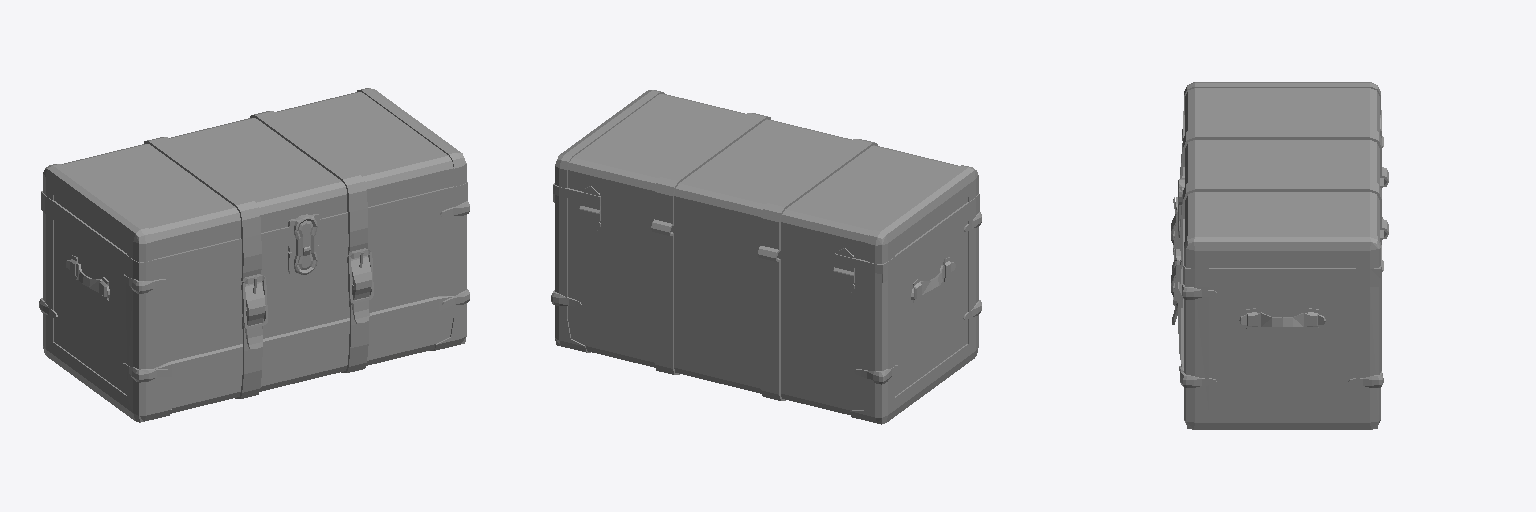
Rendered from chest.obj.
The picture shows the model from 3 angles: view 1: azimuth 30°, elevation 25°; view 2: azimuth 150°, elevation 25°; view 3: azimuth 270°, elevation 25°; orthographic projection.
Visible parts, largest first — view 1: Chest_Untitled; view 2: Chest_Untitled; view 3: Chest_Untitled.
Part boxes in pixels (x1,y1,x2,y2): Chest_Untitled: (39, 88, 469, 422); Chest_Untitled: (551, 90, 981, 424); Chest_Untitled: (1171, 82, 1388, 429).
Bounding box in the file's own units: 0.8018 × 0.431 × 0.4399.